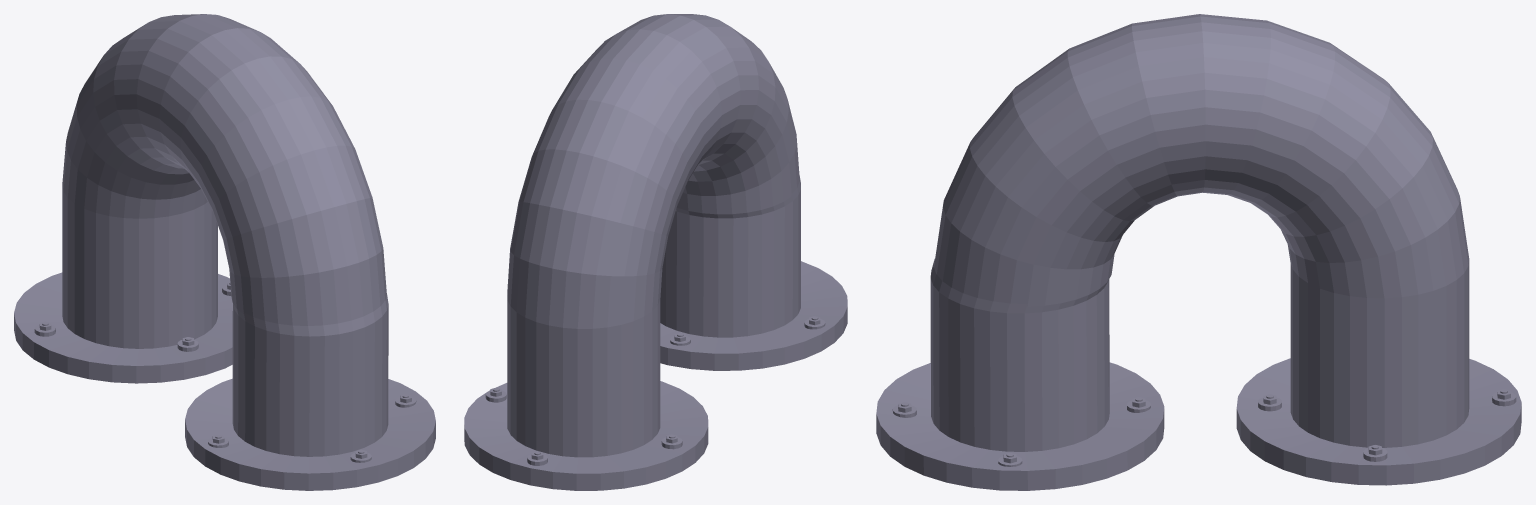
File: SM_pipe_full.fbx
3 views of the same model, side by side, from view 1: azimuth 30°, elevation 25°; view 2: azimuth 150°, elevation 25°; view 3: azimuth 270°, elevation 25° (orthographic). The views are drawn at different scales.
Parts seen in each view (by area): view 1: PIPE WHOLE; view 2: PIPE WHOLE; view 3: PIPE WHOLE.
Boxes of the visible parts, x1,y1,x2,y2 form: PIPE WHOLE: (14, 14, 435, 490); PIPE WHOLE: (464, 14, 847, 490); PIPE WHOLE: (876, 14, 1521, 490).
Bounding box in the file's own units: 189 × 277 × 396.
